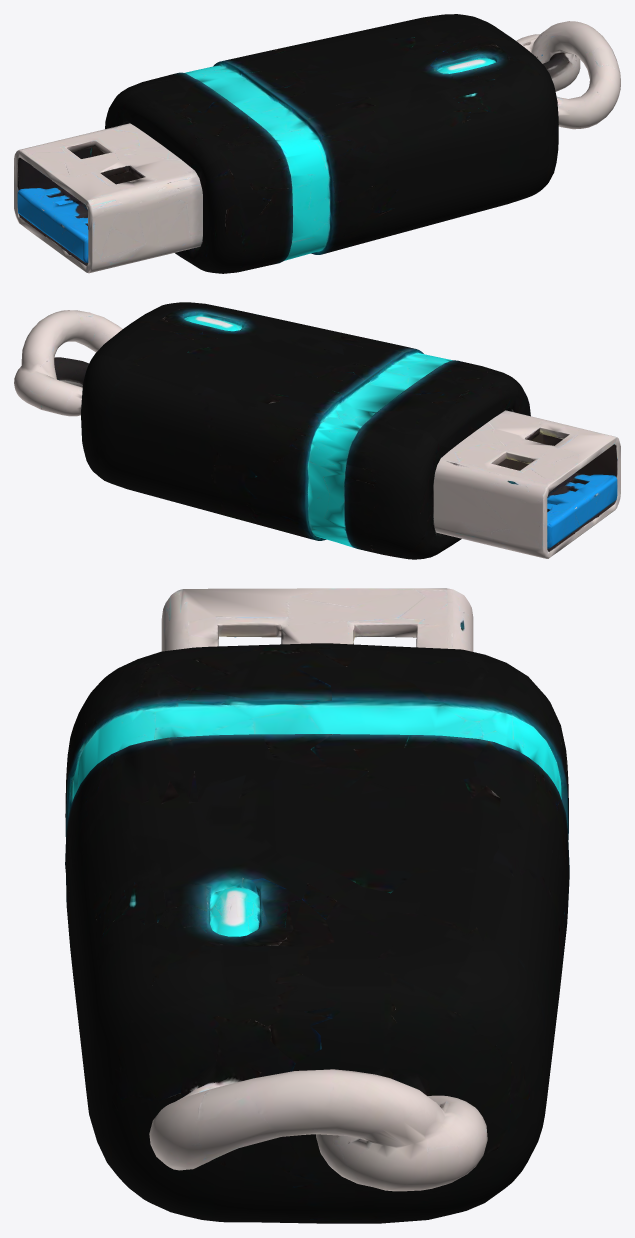
Rendered from pendrive.glb.
3 views of the same model, one above another, from view 1: azimuth 30°, elevation 25°; view 2: azimuth 150°, elevation 25°; view 3: azimuth 270°, elevation 25° (orthographic). The views are drawn at different scales.
Size of the model in its own units: 1.9 by 0.4504 by 0.7619.
1 material, 1 textured.
